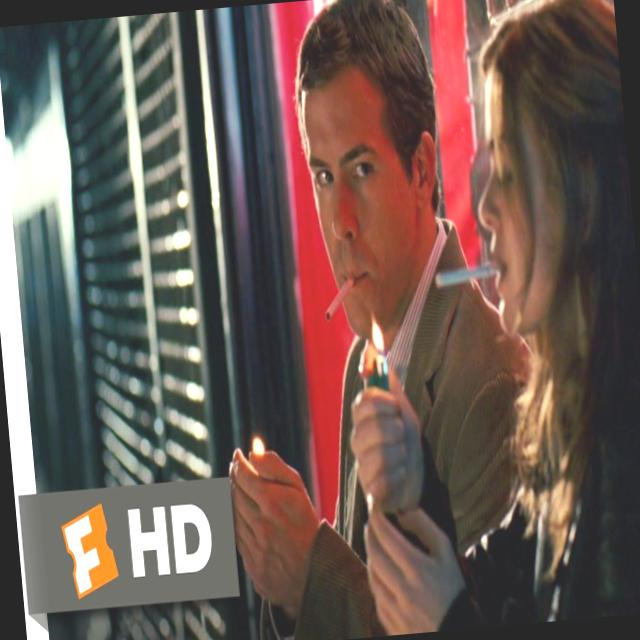smoke: (314, 264, 380, 354), (425, 248, 513, 299)
